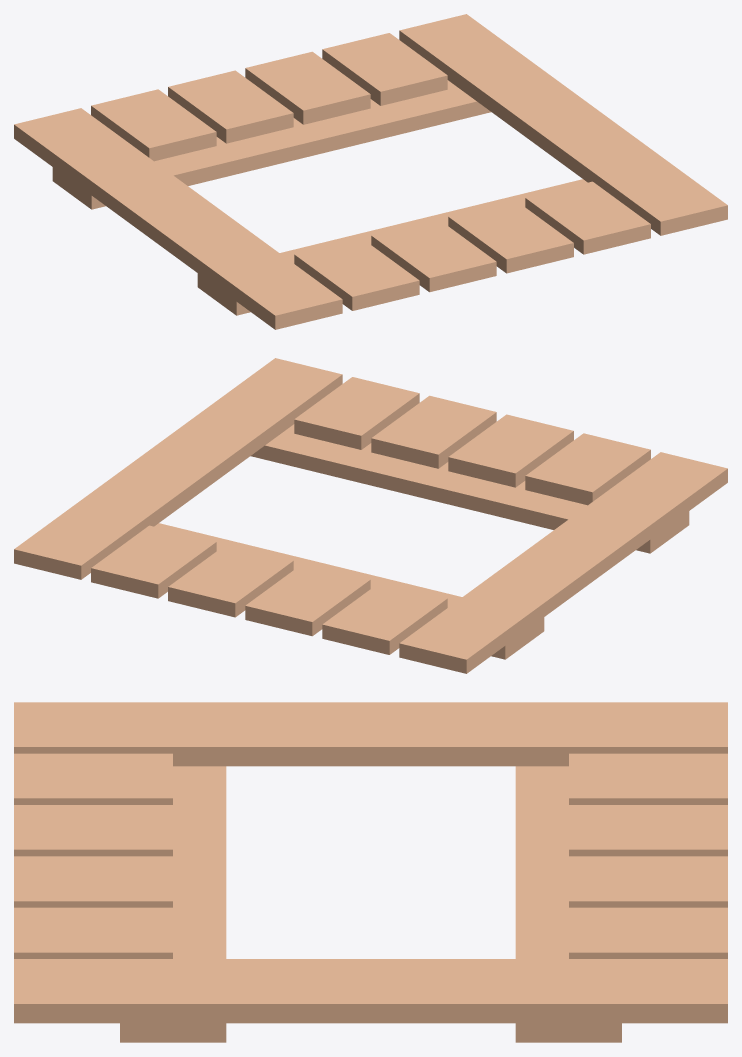
Rendered from planksOpening.glb.
3 renders of one model, top to bottom at view 1: azimuth 30°, elevation 25°; view 2: azimuth 150°, elevation 25°; view 3: azimuth 270°, elevation 25°, orthographic. The views are drawn at different scales.
Visible parts, largest first — view 1: planksOpening; view 2: planksOpening; view 3: planksOpening.
Boxes of the visible parts, bbox=[...] form: planksOpening: bbox=[14, 14, 727, 329]; planksOpening: bbox=[14, 358, 727, 673]; planksOpening: bbox=[14, 702, 727, 1042].
Size of the model in its own units: 1 by 0.06 by 1.
